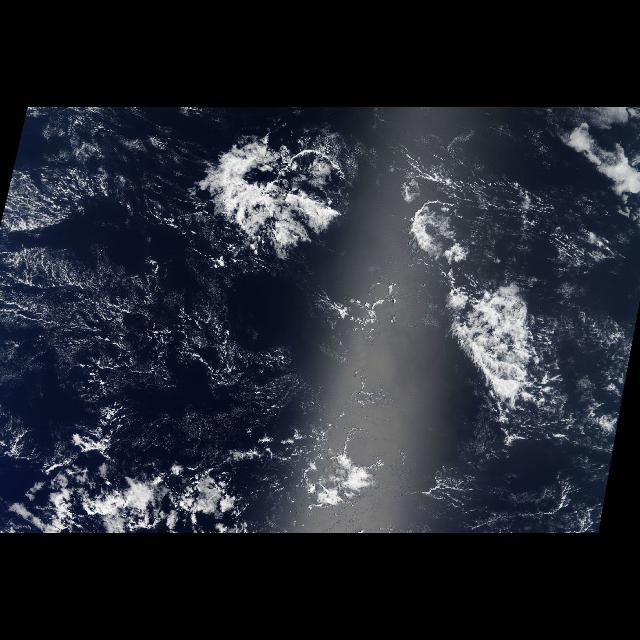Sugar: (6, 110, 288, 426)
